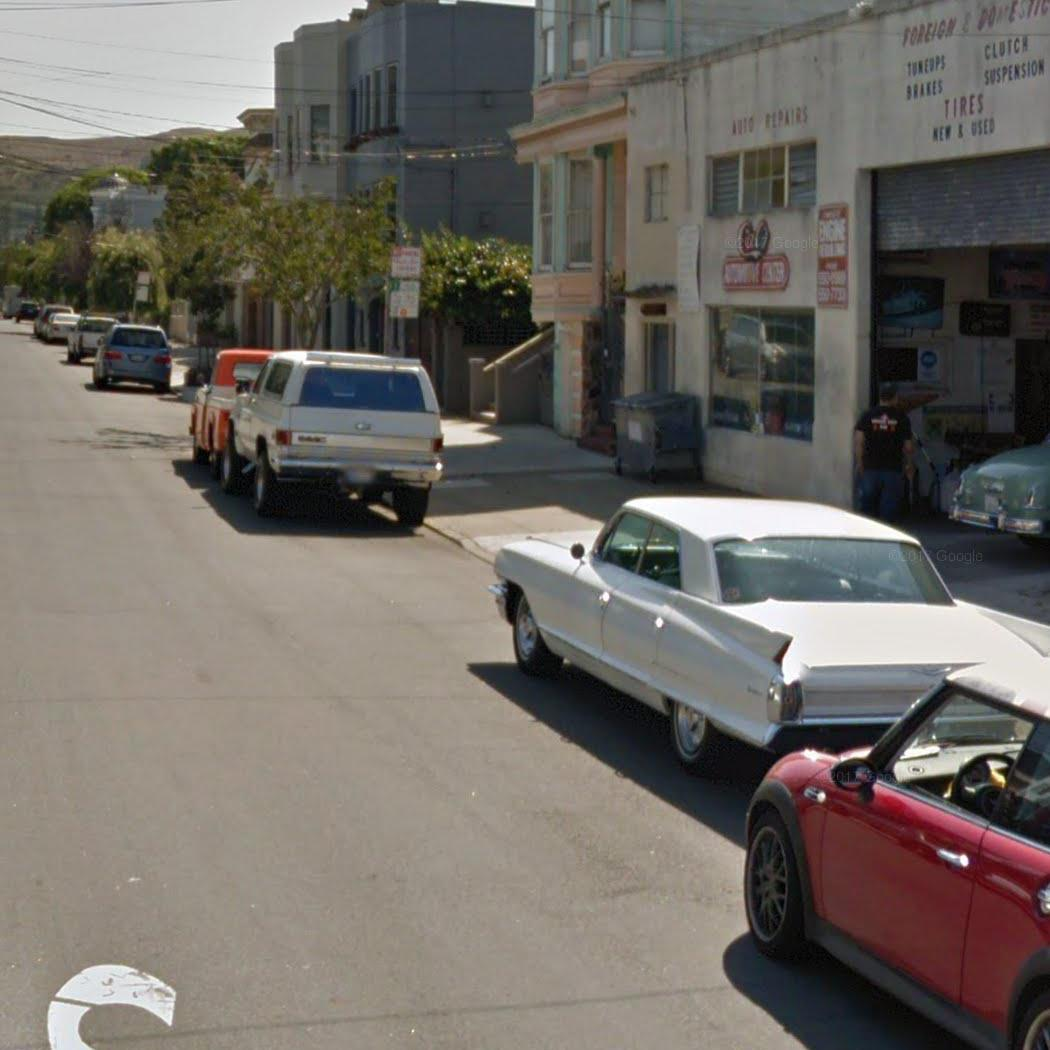1 Hour Parking: (387, 279, 422, 320)
No Parking: (388, 242, 425, 280)
